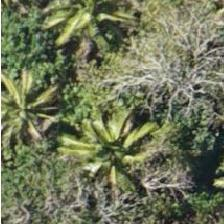Kelapa_Sawit: (49, 92, 139, 182), (89, 92, 179, 182), (55, 0, 145, 52)
